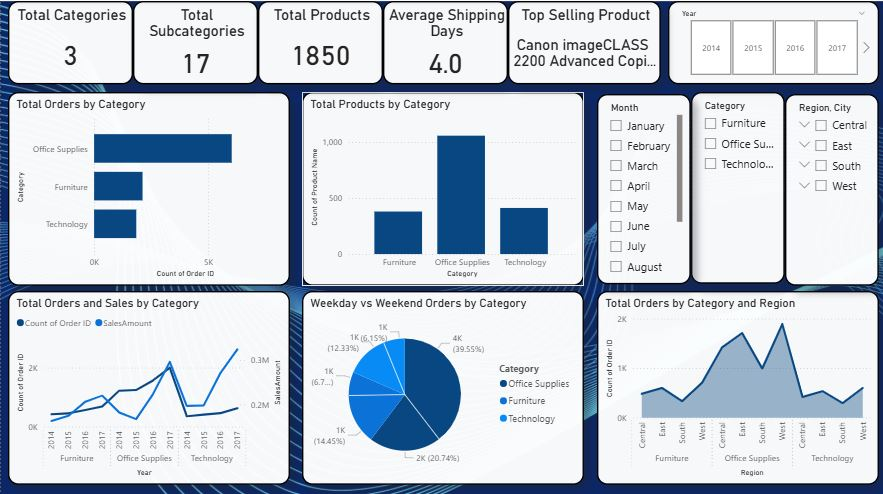

The dashboard page shown, as its layout file describes it:
{"tool":"powerbi","page":{"name":"Product","canvas":[1280,720],"ordinal":1},"visuals":[{"type":"card","title":"Total Categories","fields":{"Values":["Count(Products.Category)"]},"box":[10.1,0,180,120],"z":0},{"type":"clusteredBarChart","title":"Total Orders by Category","fields":{"Category":["Products.Category"],"Y":["CountNonNull(Orders.Order ID)"]},"box":[10.1,131,406.1,279.4],"z":1000},{"type":"card","title":"Total Subcategories","fields":{"Values":["Count(Products.Sub-Category)"]},"box":[190.1,0,180,119.5],"z":2000},{"type":"clusteredColumnChart","title":"Total Products by Category","fields":{"Y":["Count(Products.Product Name)"],"Category":["Products.Category Hierarchy.Category","Products.Category Hierarchy.Sub-Category"]},"box":[433.4,131,406.1,279.4],"z":3000},{"type":"card","title":"Total Products","fields":{"Values":["Count(Products.Product Name)"]},"box":[370.1,0,180,119.5],"z":4000},{"type":"lineChart","title":"Total Orders and Sales by Category","fields":{"Category":["Products.Category","Dim Date.Date.Variation.Date Hierarchy.Year"],"Y":["CountNonNull(Orders.Order ID)"],"Y2":["Orders.SalesAmount"]},"box":[10.1,417.6,406.1,279.4],"z":5000},{"type":"pieChart","title":"Weekday vs Weekend Orders by Category","fields":{"Y":["Orders.OrdersWeekday","Orders.OrdersWeekend"],"Category":["Products.Category"]},"box":[433.4,417.6,406.1,279.4],"z":6000},{"type":"areaChart","title":"Total Orders by Category and Region","fields":{"Category":["Products.Category","Orders.Country Hierarchy.Region","Orders.Country Hierarchy.State","Orders.Country Hierarchy.City"],"Y":["CountNonNull(Orders.Order ID)"]},"box":[858.2,417.6,406.1,279.4],"z":7000},{"type":"slicer","fields":{"Values":["Products.Category"]},"box":[993.6,131,135.4,276.5],"z":8000},{"type":"slicer","fields":{"Values":["Orders.Region","Orders.City"]},"box":[1129,133.9,135.4,276.5],"z":9000},{"type":"card","title":"Average Shipping Days","fields":{"Values":["Avg(Orders.ShippingDays)"]},"box":[550.1,0,180,119.5],"z":10000},{"type":"slicer","fields":{"Values":["Dim Date.Date.Variation.Date Hierarchy.Year"]},"box":[960.5,0,303.8,119.5],"z":11000},{"type":"card","title":"Top Selling Product","fields":{"Values":["Min(TopProduct.Top Product)"]},"box":[730.1,0,220.3,119.5],"z":12000},{"type":"slicer","fields":{"Values":["Dim Date.Date.Variation.Date Hierarchy.Month"]},"box":[858.2,133.9,135.4,273.6],"z":13000}]}

Visuals, with their boxes in screenshot pixels (x1, y1, x2, y2), scaled from the page's 1280x720 canvas onto the 883x494 screenshot:
"Total Categories" card: select_region(7, 0, 131, 82)
"Total Orders by Category" clusteredBarChart: select_region(7, 90, 287, 282)
"Total Subcategories" card: select_region(131, 0, 255, 82)
"Total Products by Category" clusteredColumnChart: select_region(299, 90, 579, 282)
"Total Products" card: select_region(255, 0, 379, 82)
"Total Orders and Sales by Category" lineChart: select_region(7, 287, 287, 478)
"Weekday vs Weekend Orders by Category" pieChart: select_region(299, 287, 579, 478)
"Total Orders by Category and Region" areaChart: select_region(592, 287, 872, 478)
slicer - Products.Category: select_region(685, 90, 779, 280)
slicer - Orders.Region x Orders.City: select_region(779, 92, 872, 282)
"Average Shipping Days" card: select_region(379, 0, 504, 82)
slicer - Dim Date.Date.Variation.Date Hierarchy.Year: select_region(663, 0, 872, 82)
"Top Selling Product" card: select_region(504, 0, 656, 82)
slicer - Dim Date.Date.Variation.Date Hierarchy.Month: select_region(592, 92, 685, 280)
